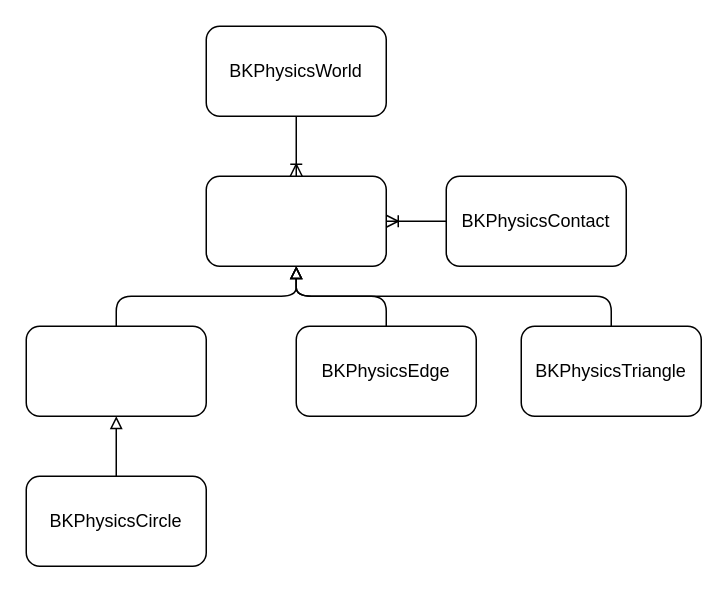
This 728x593 diagram has some shape labels left out. Here are the shapes that lost their labels. From the top down, the centre of each, then its label:
At pixel 295 220: "BKPhysicsBody".
At pixel 115 370: "BKPhysicsBody WithVolume".
